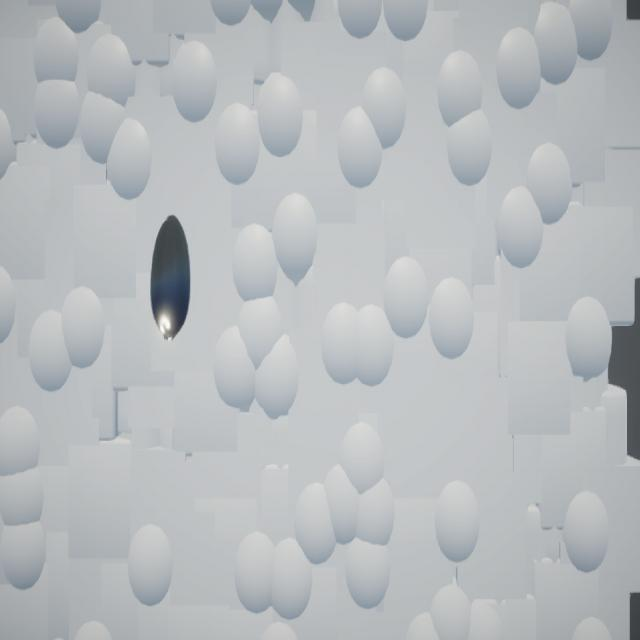top_spoon: (151, 216, 191, 341)
